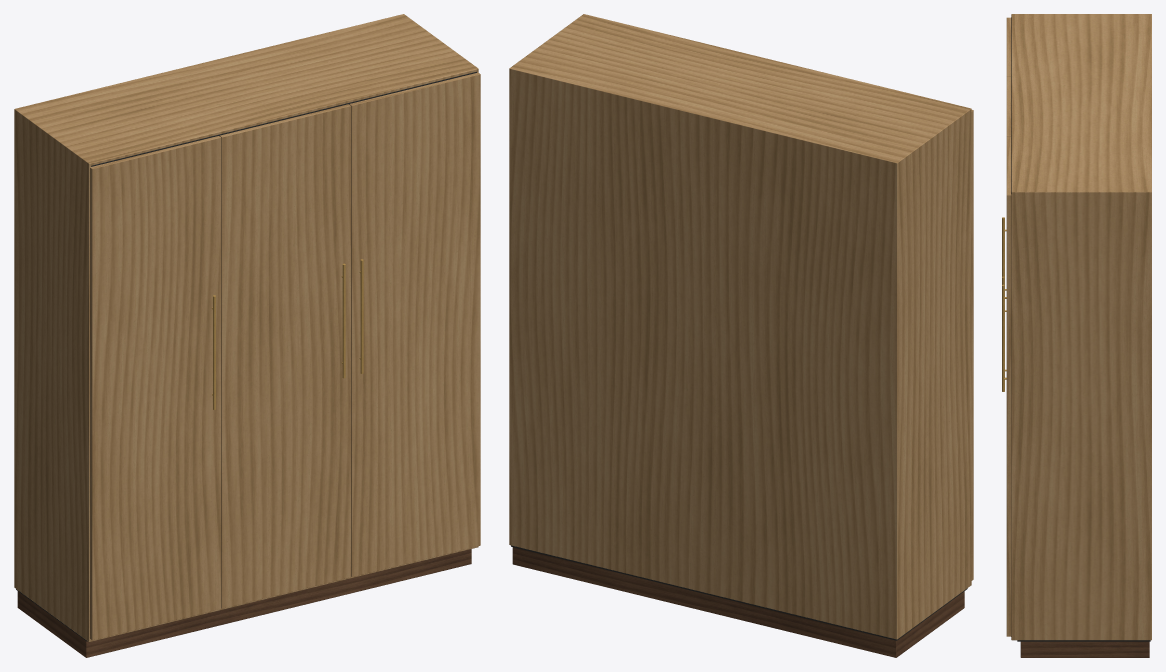
File: noi-that-tu-ao.glb
The picture shows the model from 3 angles, left to right: view 1: azimuth 30°, elevation 25°; view 2: azimuth 150°, elevation 25°; view 3: azimuth 270°, elevation 25°; orthographic projection. The views are drawn at different scales.
Visible parts, largest first — view 1: Carcass, Door_1, Door_3, Door_2, Plinth, ShadowGap; view 2: Carcass, Plinth, Door_1, ShadowLine; view 3: Carcass, Door_3, Plinth, Handle_3, Door_1, Door_2, ShadowLine.
Boxes of the visible parts, x1,y1,x2,y2 form: Carcass: [14, 14, 478, 642]; Door_1: [90, 136, 221, 640]; Door_3: [349, 72, 480, 576]; Door_2: [219, 104, 350, 608]; Plinth: [17, 549, 471, 657]; ShadowGap: [91, 71, 476, 166]; Carcass: [509, 14, 971, 639]; Plinth: [512, 547, 964, 657]; Door_1: [971, 110, 973, 580]; ShadowLine: [511, 545, 967, 640]; Carcass: [1011, 14, 1151, 640]; Door_3: [1006, 136, 1011, 636]; Plinth: [1020, 641, 1149, 657]; Handle_3: [1002, 284, 1006, 391]; Door_1: [1006, 17, 1010, 76]; Door_2: [1006, 77, 1010, 136]; ShadowLine: [1017, 640, 1150, 641].
Size of the model in its own units: 1.8 by 2.2 by 0.64.
Materials: 4 (4 with a texture image).
